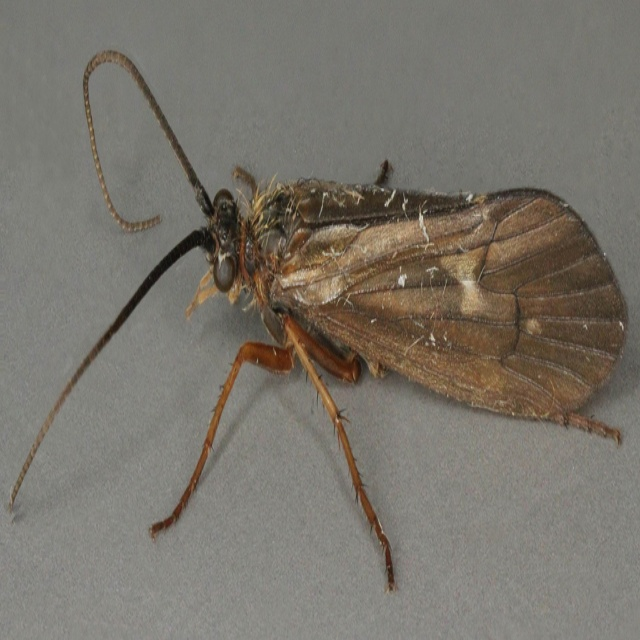Moths and butterflies: (8, 46, 631, 598)
